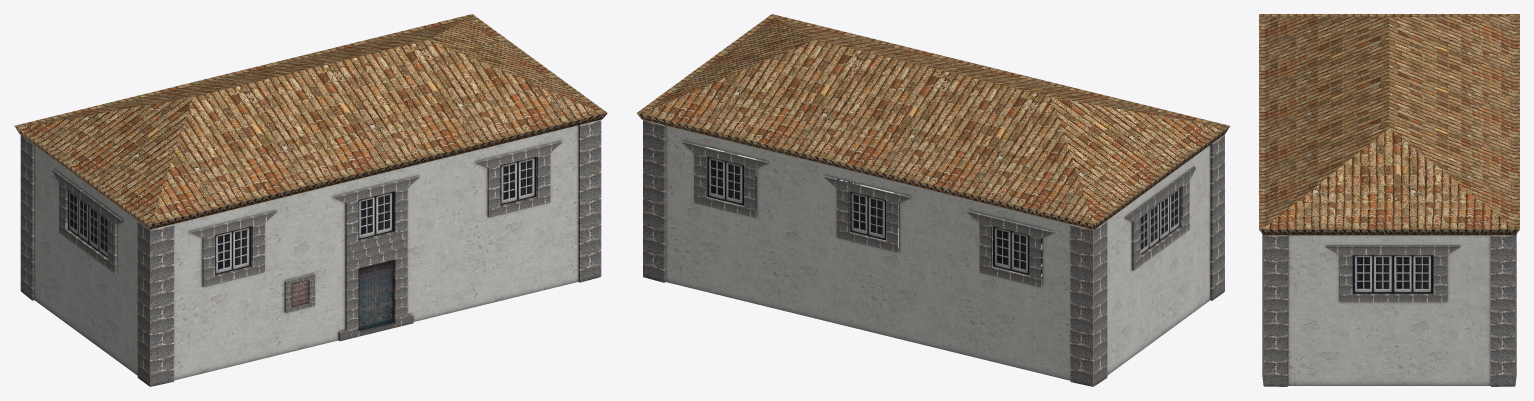
The model's file is casasenorial.fbx.
3 views of the same model, side by side, from view 1: azimuth 30°, elevation 25°; view 2: azimuth 150°, elevation 25°; view 3: azimuth 270°, elevation 25° (orthographic). The views are drawn at different scales.
Visible parts, largest first — view 1: casa_senorial; view 2: casa_senorial; view 3: casa_senorial.
Boxes of the visible parts, <box> form: casa_senorial: <box>14,14,607,386</box>; casa_senorial: <box>636,14,1229,386</box>; casa_senorial: <box>1259,14,1519,386</box>.
Size of the model in its own units: 63.44 by 28.51 by 32.44.
